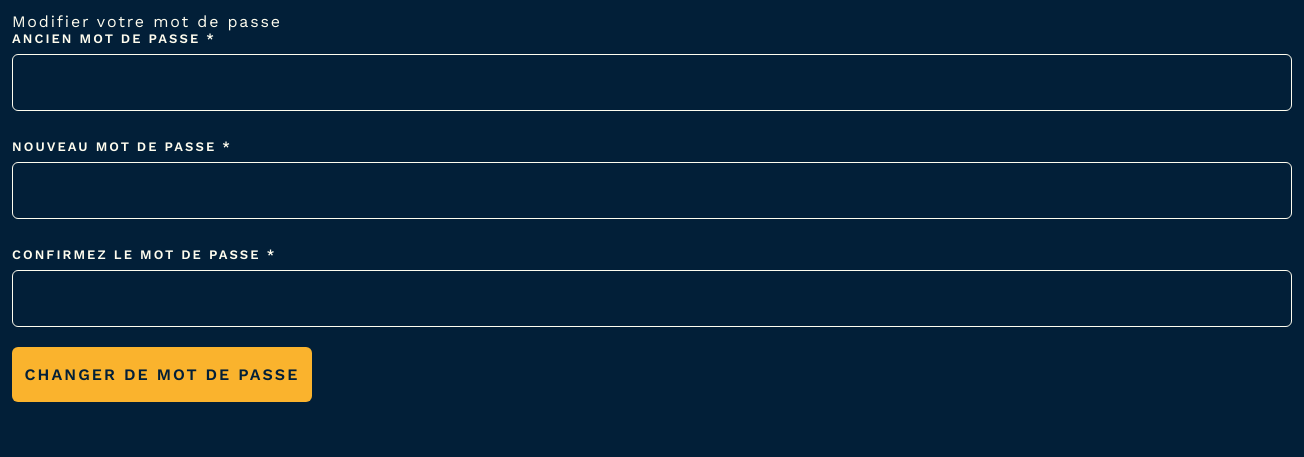
Test: UpdateProfileForm component tests › should set new password error if field is empty
The image size is (1304, 457).
Type "awesomePassword" into the password field labelled "Ancien mot de passe *" at (652, 82), box [12,54,1292,111]
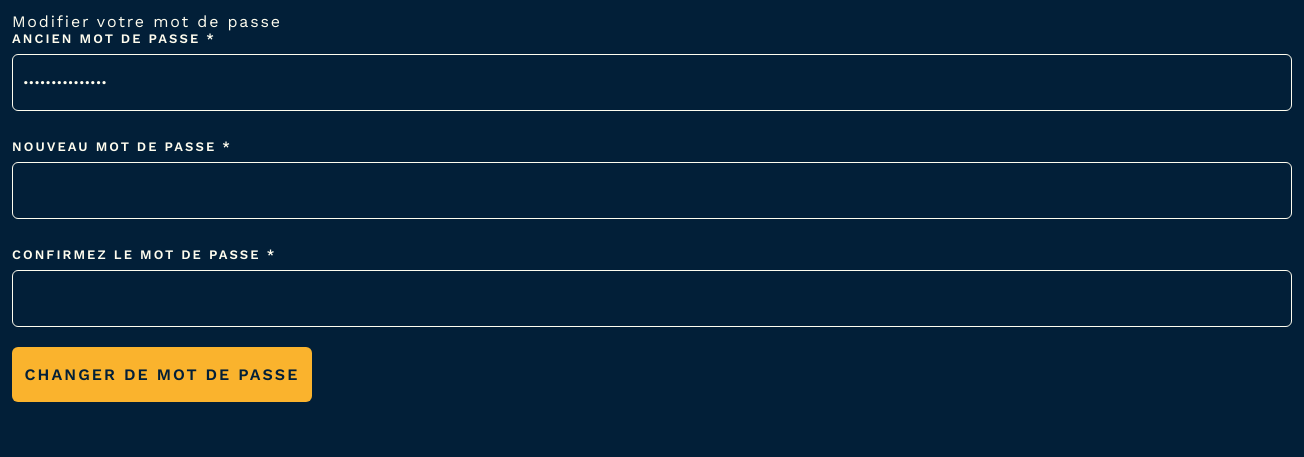
Submit the form from the button "Changer de mot de passe", box [12,347,312,402]
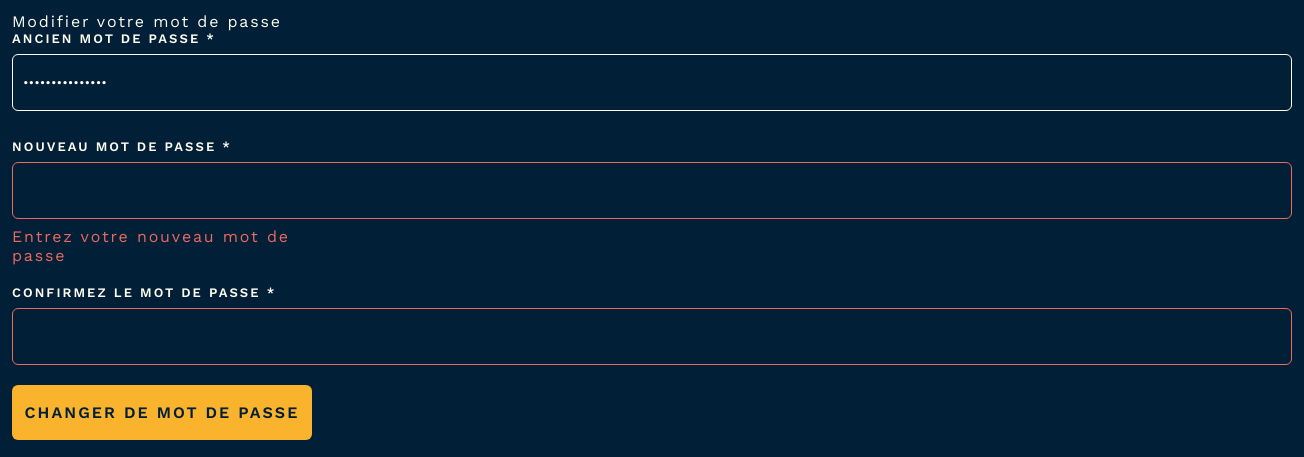
Result: the text "Entrez votre nouveau mot de passe" is shown at [12,227,312,265]
